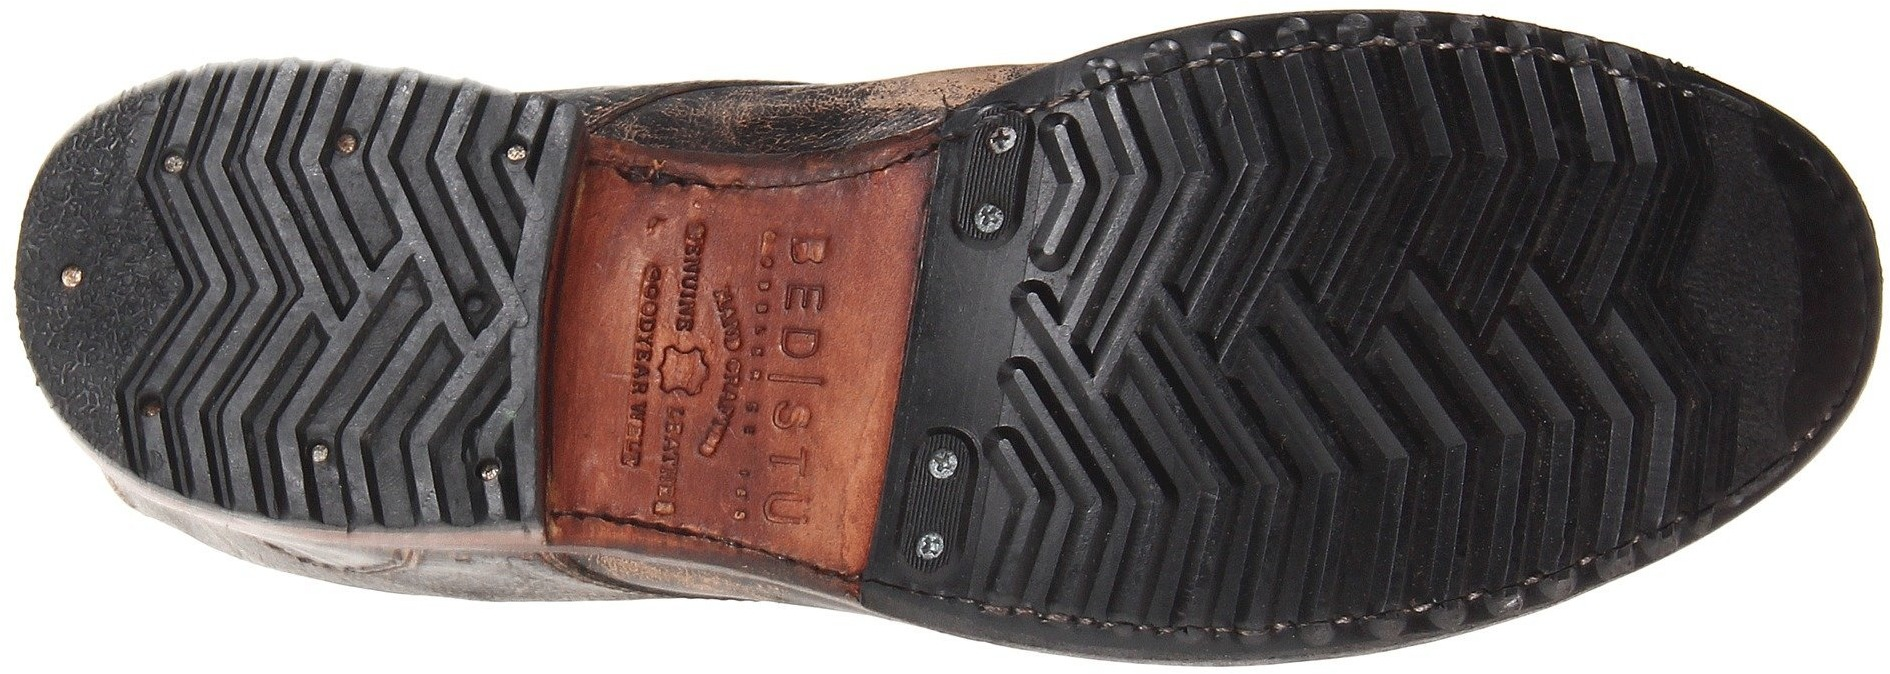chevron: (980, 58, 1355, 605), (1041, 98, 1431, 586), (1330, 61, 1678, 599), (170, 93, 503, 483)
circle: (902, 517, 958, 572), (916, 438, 970, 491), (963, 192, 1019, 244), (46, 254, 96, 301), (979, 115, 1025, 160)
exclude: (535, 45, 941, 596)
text: (614, 203, 849, 549)
